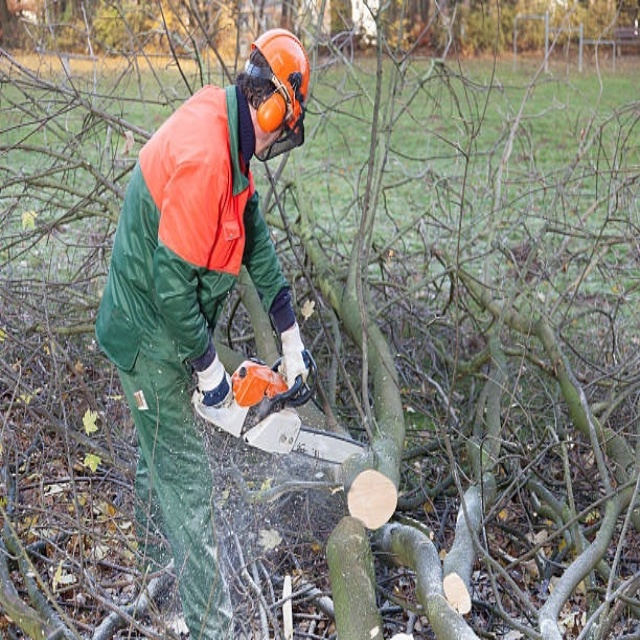Guantes: (195, 349, 232, 407), (280, 321, 308, 389)
